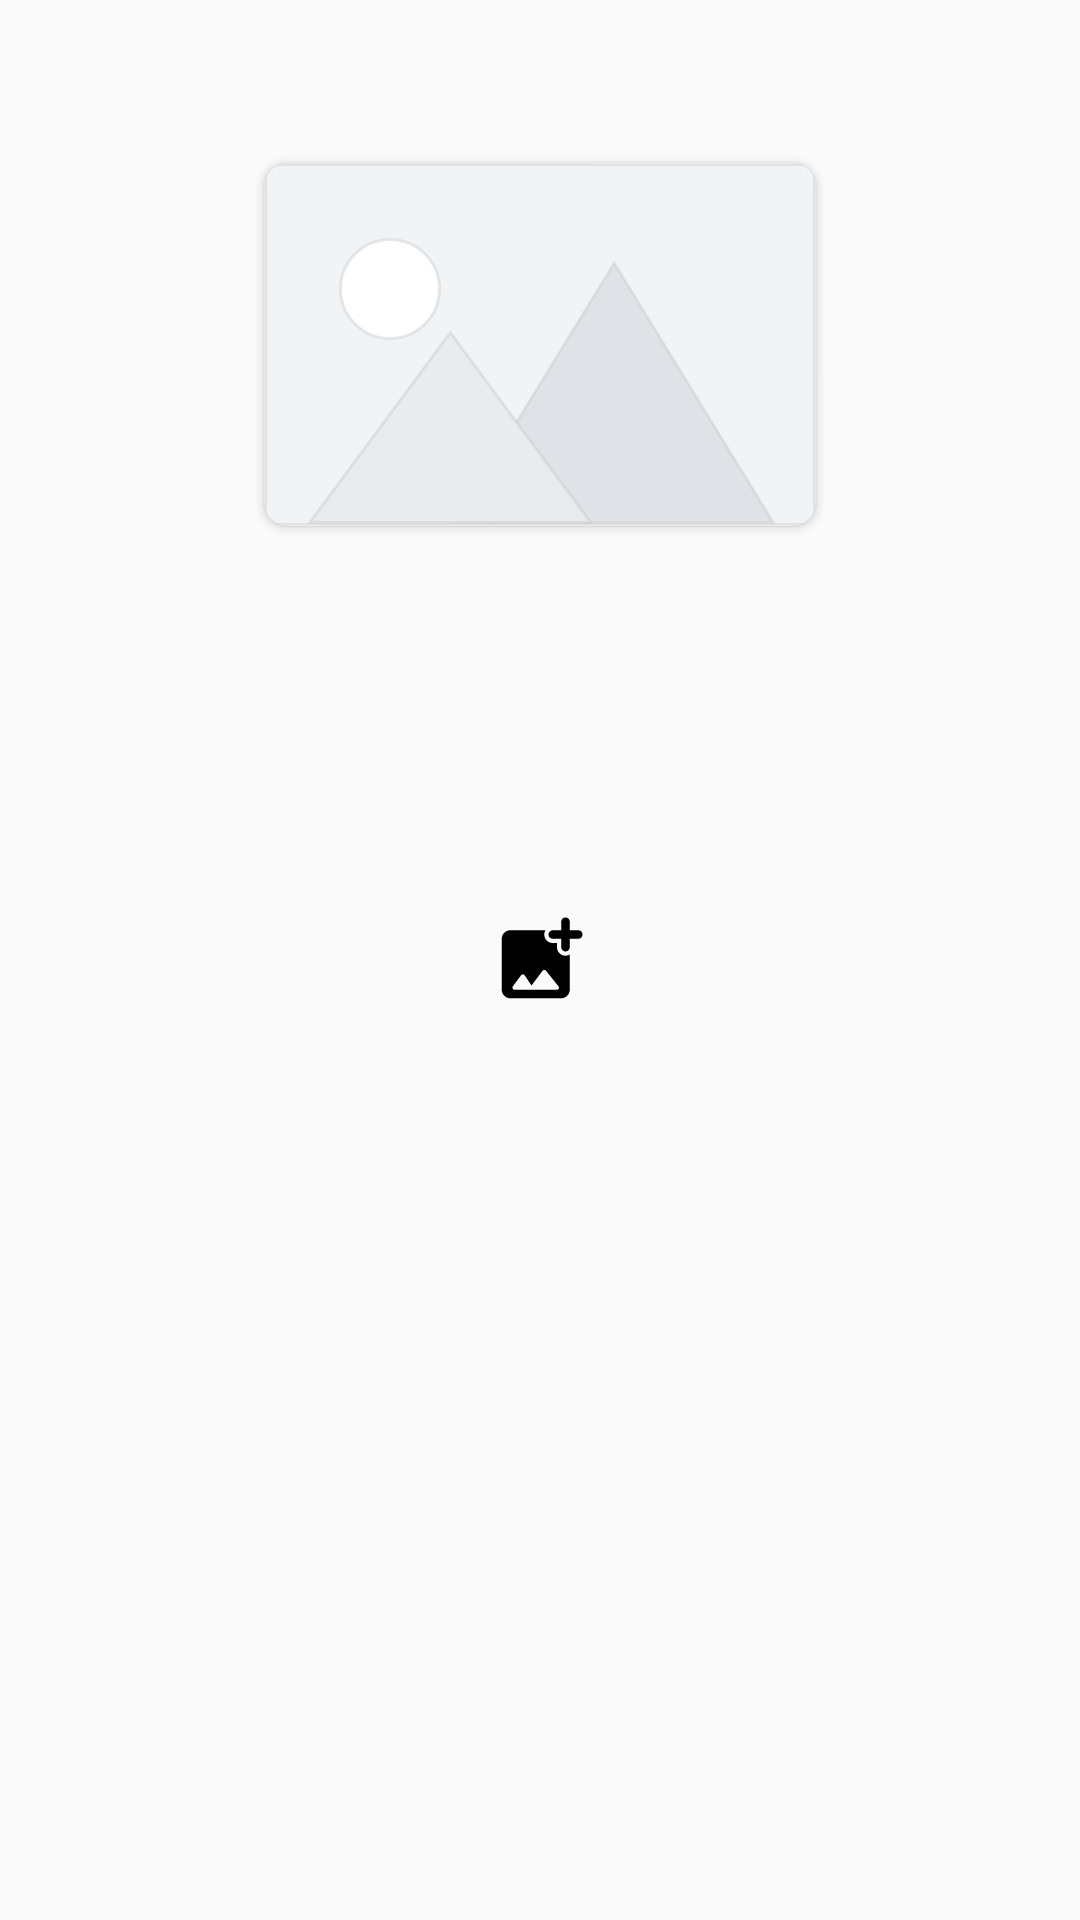

Screen size 1080w x 1920h. Icon name, then its box in pixels as bbox=(x1, y1, x2, y2):
add picture: bbox=(501, 917, 583, 999)
